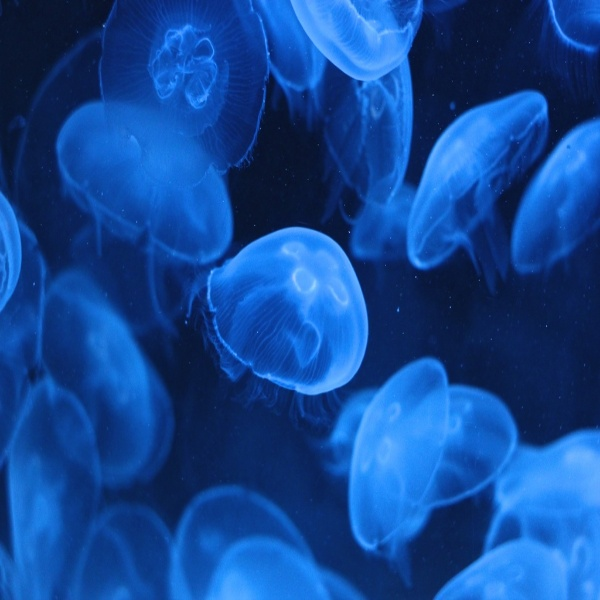Jellyfish: (0, 0, 599, 599), (201, 229, 376, 419)
